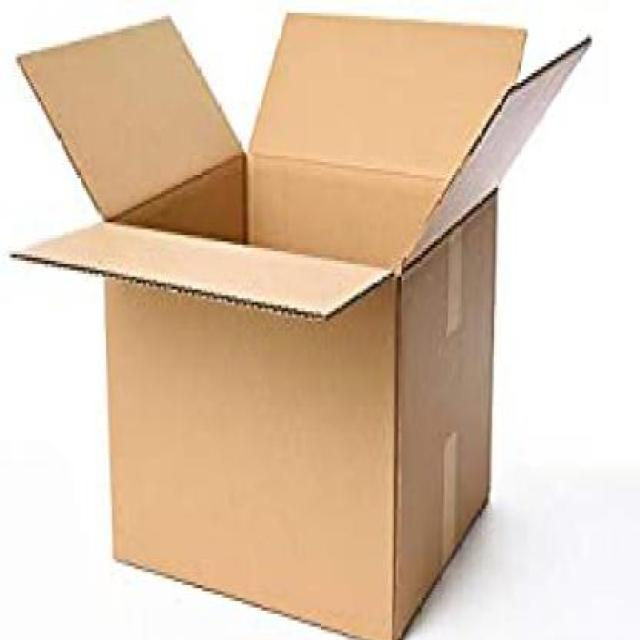box: (2, 0, 596, 640)
